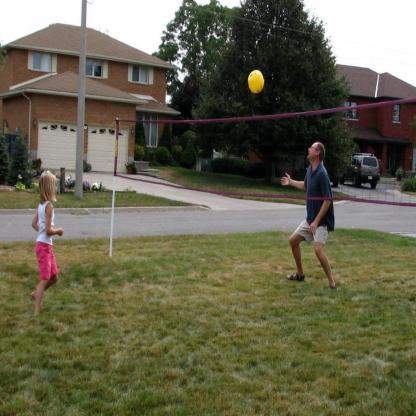Ball: (248, 69, 264, 93)
